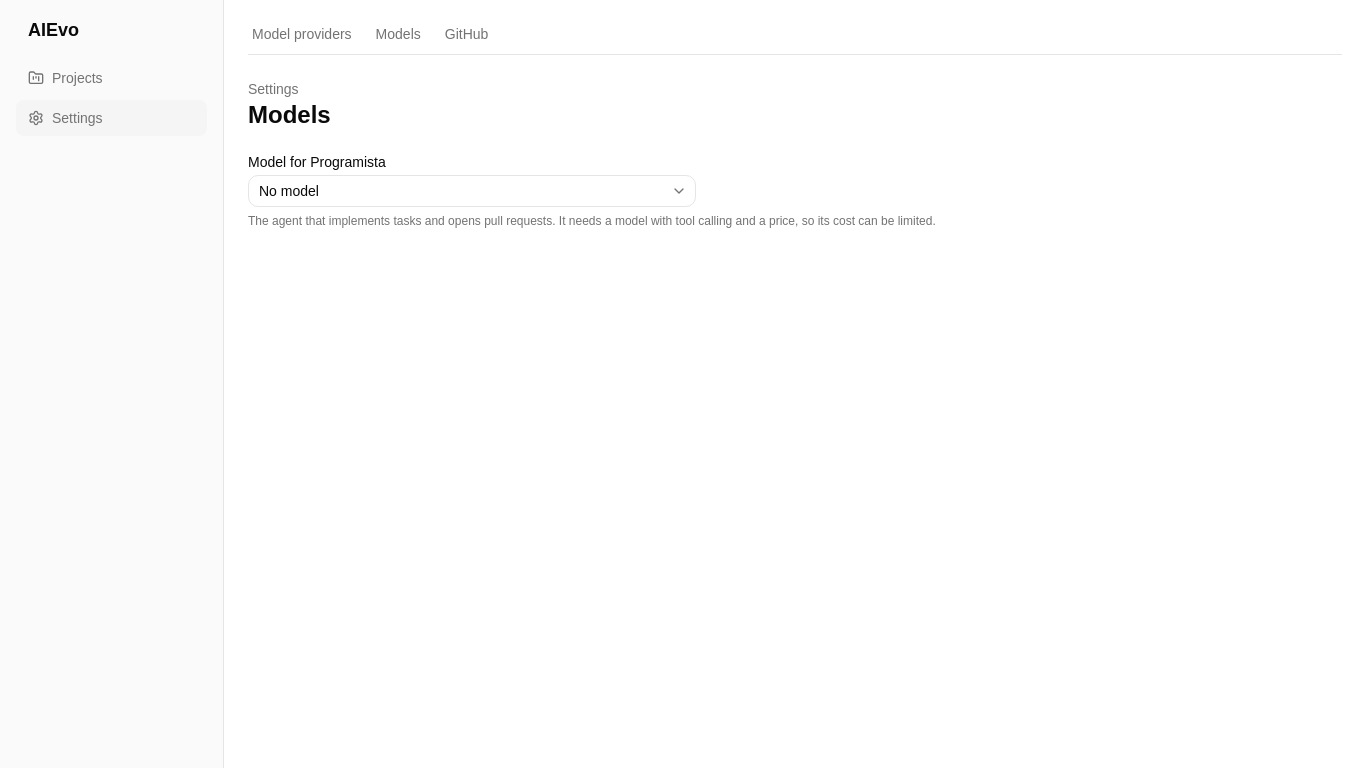
AgentModelsPage › saves the model chosen for the Programista from the enabled ones
Click the dropdown named "Model for Programista": click(289, 191) [248,175,696,207]
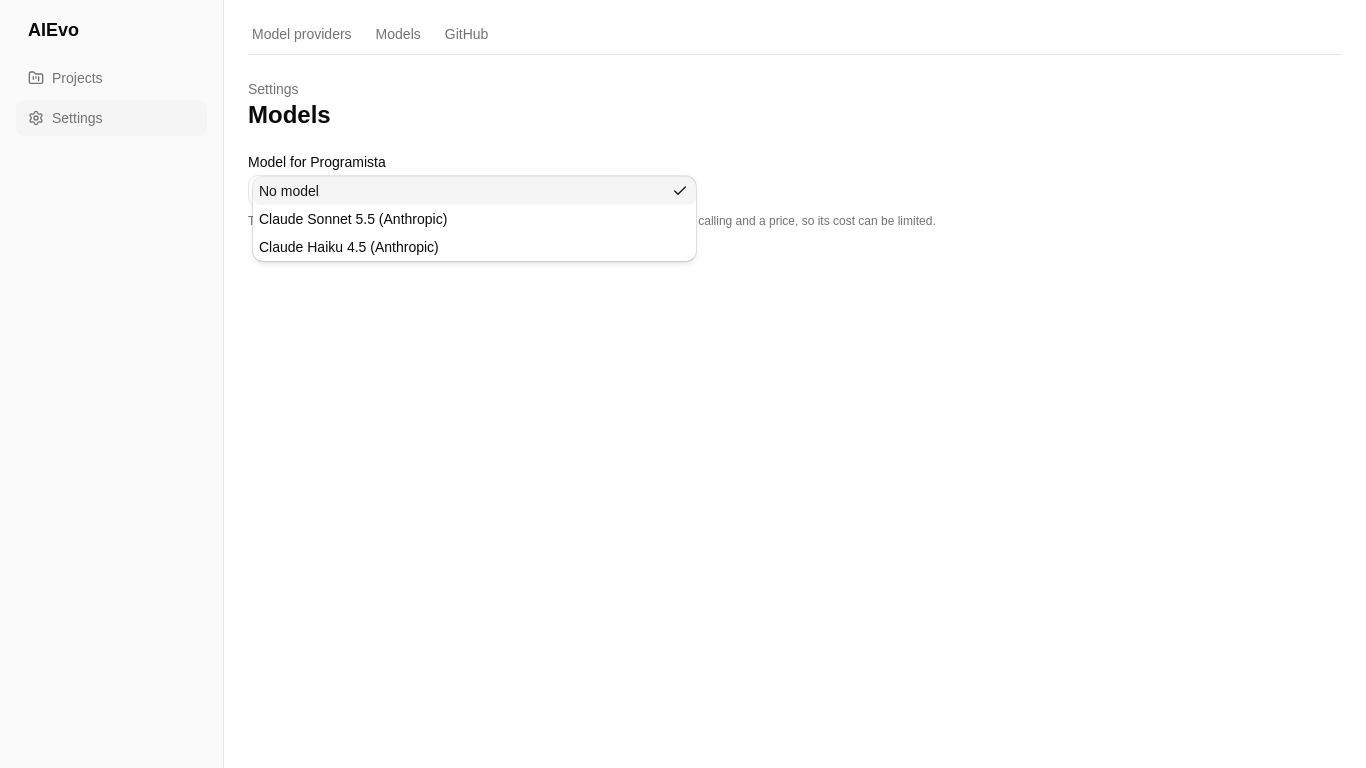
Click the option "Claude Haiku 4.5 (Anthropic)": click(349, 247) [259,239,439,255]
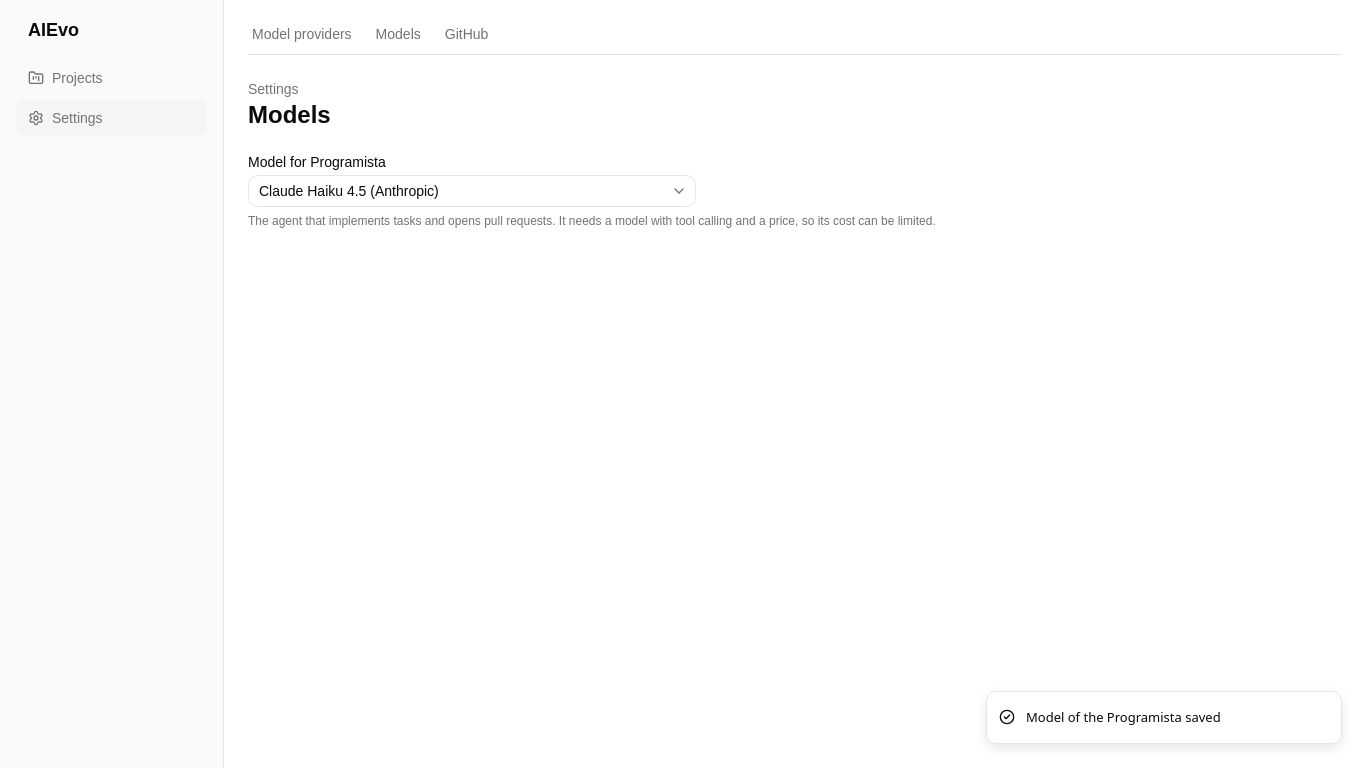
Check: the text "Model of the Programista saved" is shown, box [1026,708,1221,727]
Check: the dropdown named "Model for Programista" reads "Claude Haiku 4.5 (Anthropic)", box [248,175,696,207]
